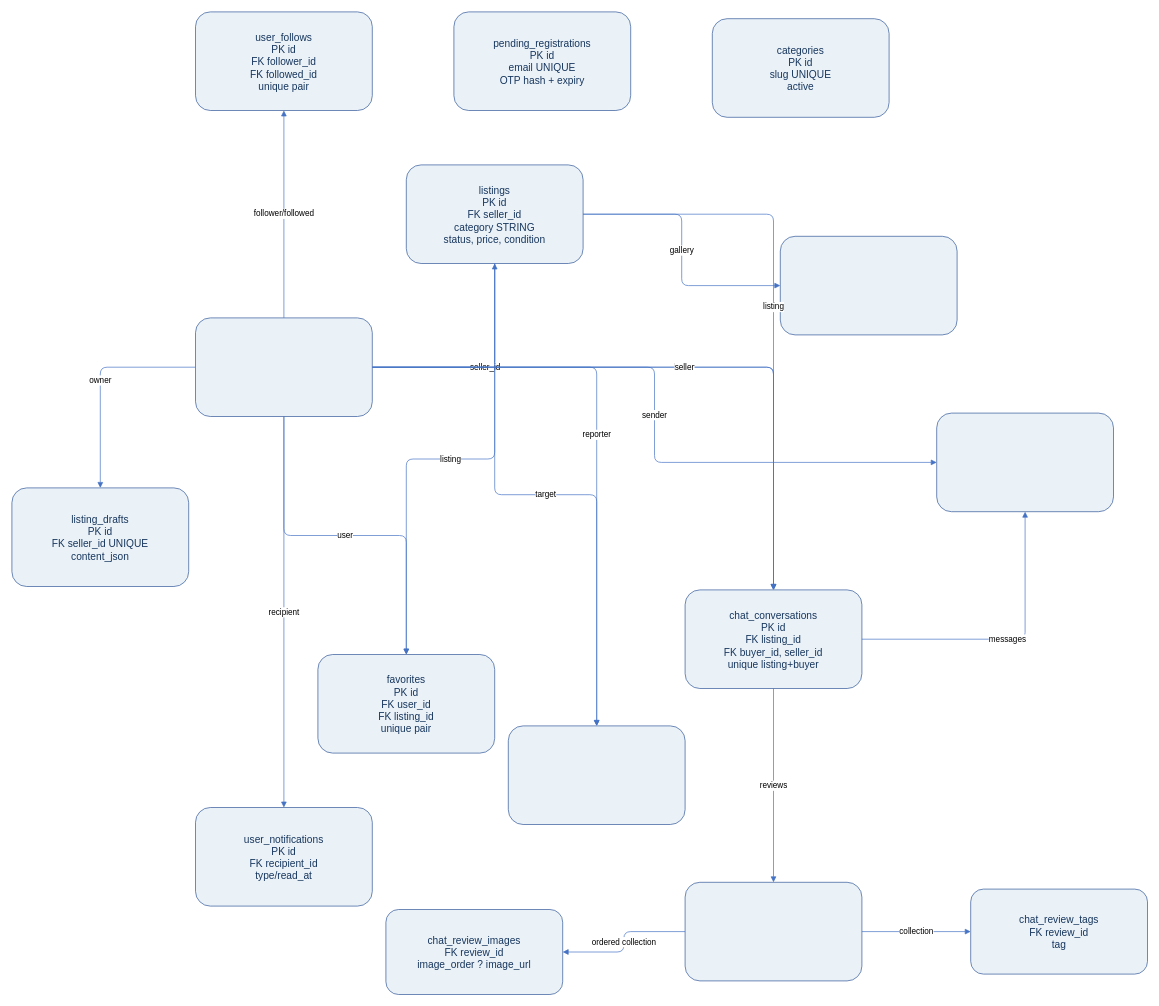
This 1159x1006 diagram has some shape labels left out. The centre of each missing label's shape, as x and y in pixels:
chat_messages PK id FK conversation_id FK sender_id type/content/location: point (1025, 462)
chat_reviews PK id FK conversation_id FK reviewer/reviewee unique conv+reviewer: point (773, 931)
listing_images FK listing_id image_order image_url: point (868, 285)
listing_reports PK id FK reporter_id FK listing_id status/reason: point (596, 775)
user_accounts PK id email UNIQUE role, status profile/auth: point (283, 367)
